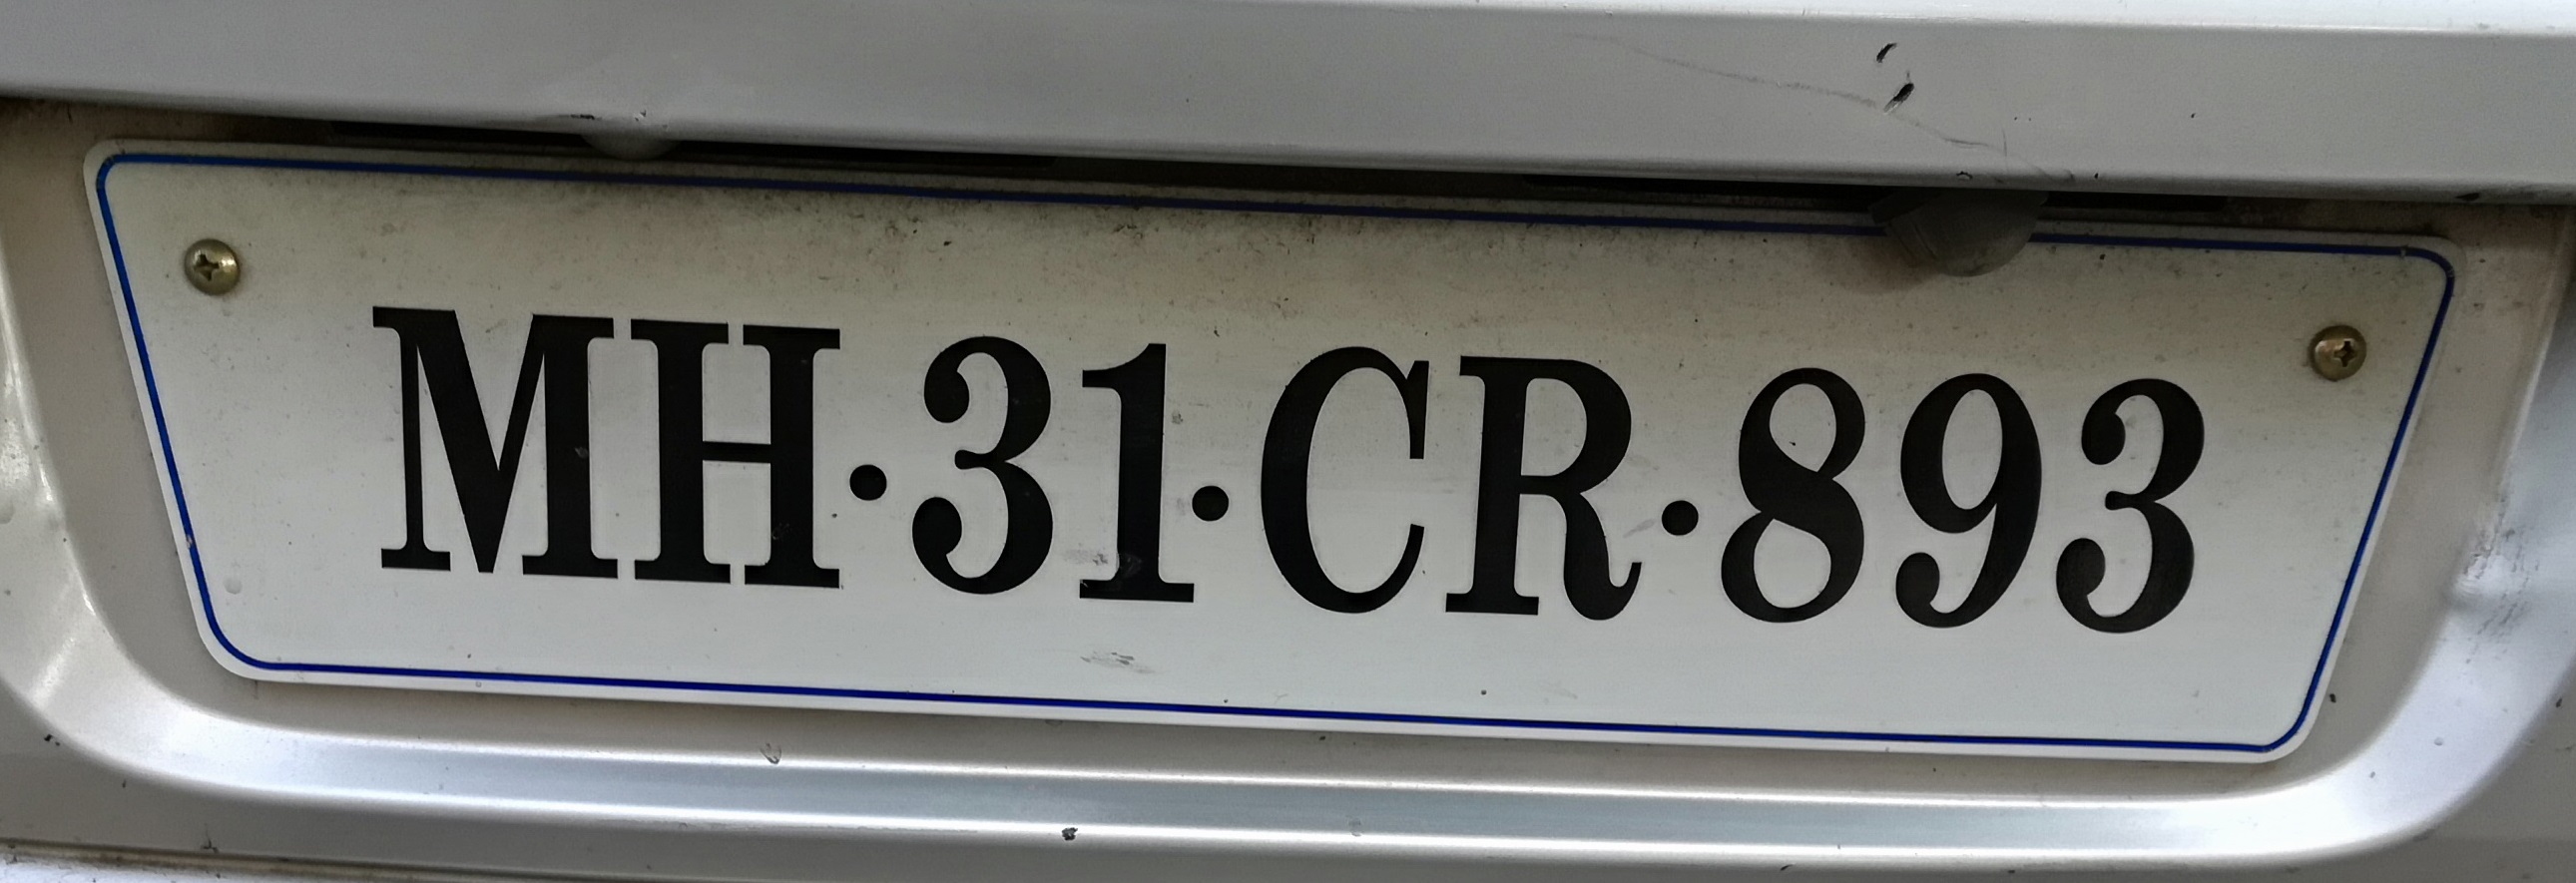numberplate: (68, 123, 2463, 777)
